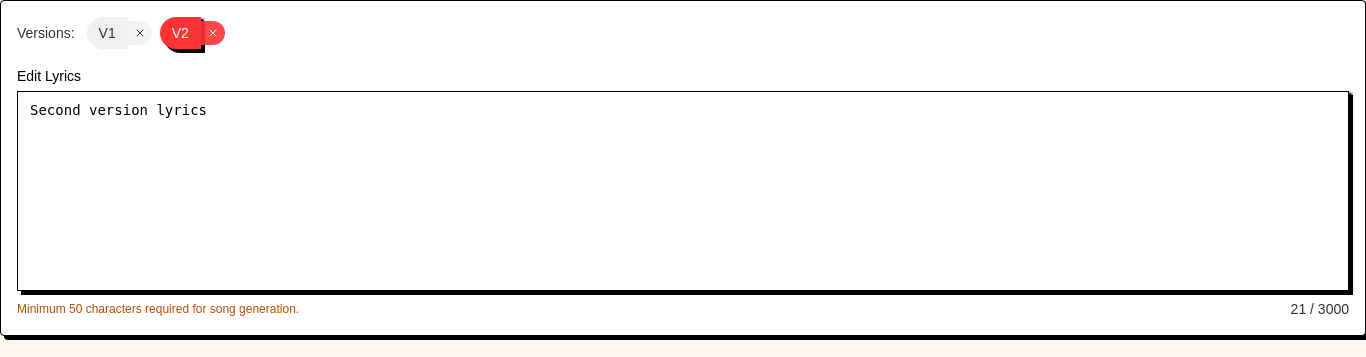
Test case: Version Switching Unit Tests › Switching between versions › should update textarea content when switching versions
Expected: the text box holds "Second version lyrics", [17, 91, 1349, 291]
Note: Click version 1 tab using userEvent for more realistic interaction
Click the tab "V1". click: (107,33)
box: [87, 17, 128, 49]
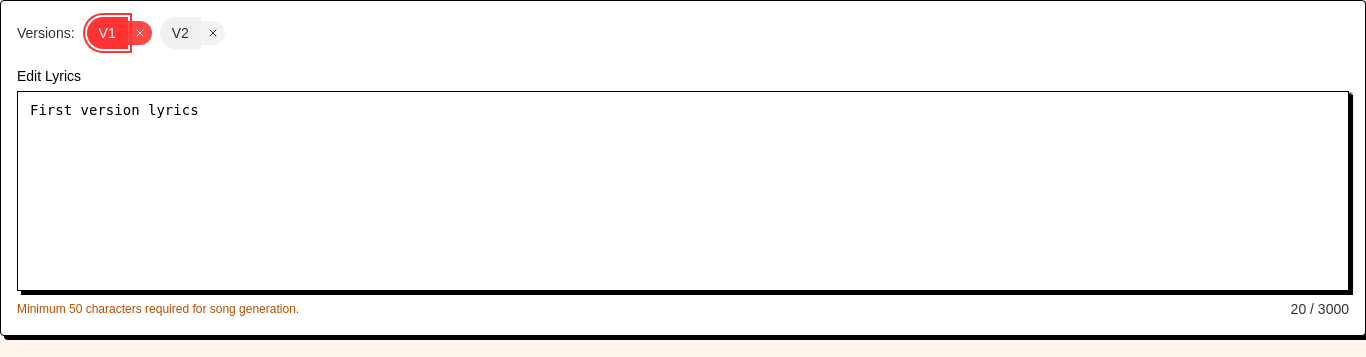
Expected: the text box holds "First version lyrics", [17, 91, 1349, 291]
